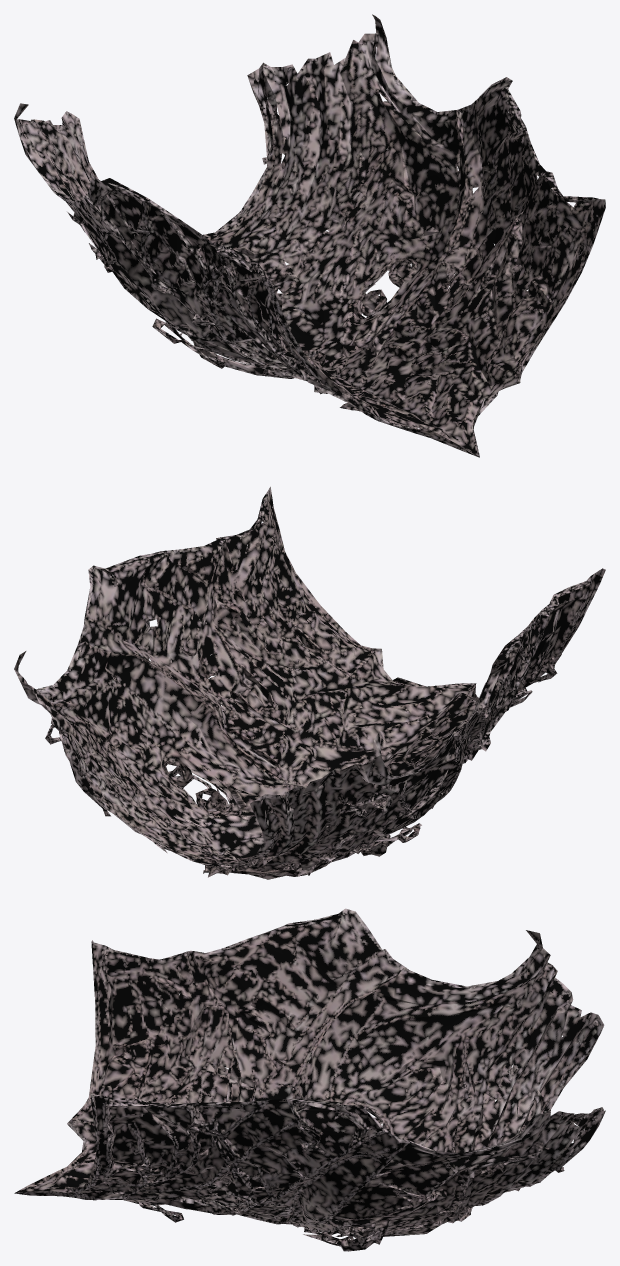
File: vampire_chestplate_LOD1.glb
The picture shows the model from 3 angles, top to bottom: view 1: azimuth 30°, elevation 25°; view 2: azimuth 150°, elevation 25°; view 3: azimuth 270°, elevation 25°; orthographic projection. The views are drawn at different scales.
Parts seen in each view (by area): view 1: vampire_chestplate_LOD1; view 2: vampire_chestplate_LOD1; view 3: vampire_chestplate_LOD1.
Part boxes in pixels (x1,y1,x2,y2): vampire_chestplate_LOD1: (14,14,605,457); vampire_chestplate_LOD1: (14,486,605,879); vampire_chestplate_LOD1: (14,908,605,1251).
Size of the model in its own units: 0.5914 by 0.3329 by 0.7757.
1 material, 1 textured.
